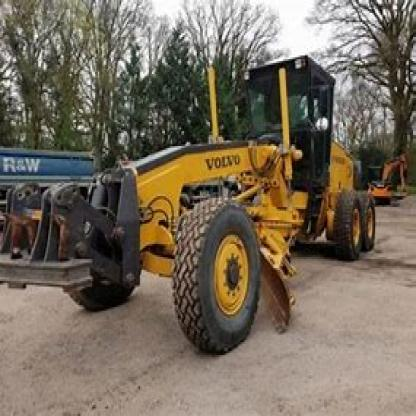bull_dozer/loader/grader: (32, 48, 399, 355)
